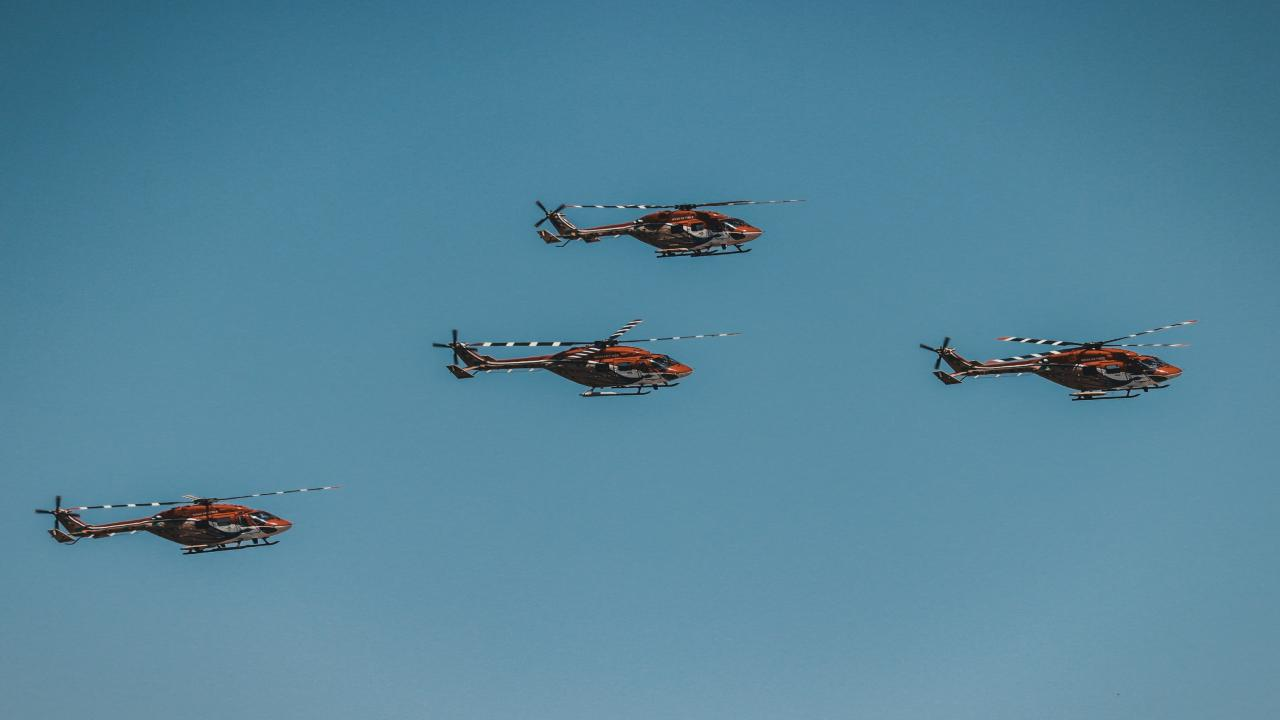Helicopter: (891, 292, 1229, 434), (11, 455, 366, 581), (410, 301, 762, 422), (500, 162, 824, 287)
